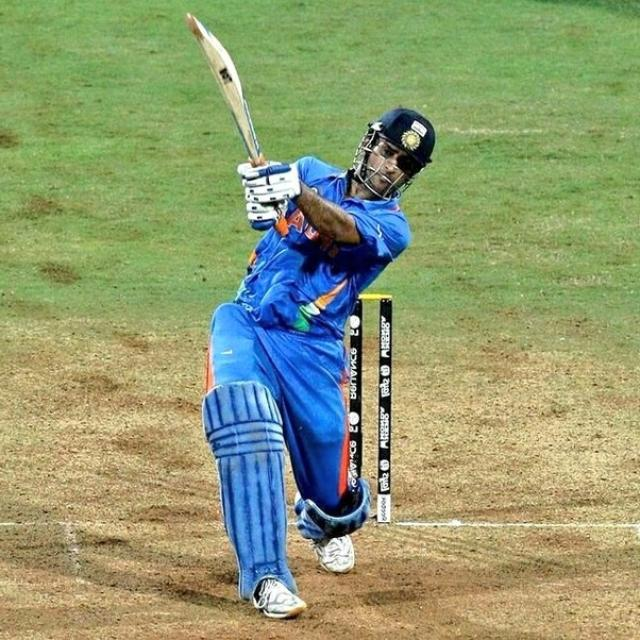stump: (346, 293, 393, 522)
